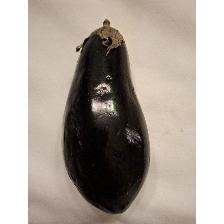Zwiebel: (58, 17, 156, 218)
